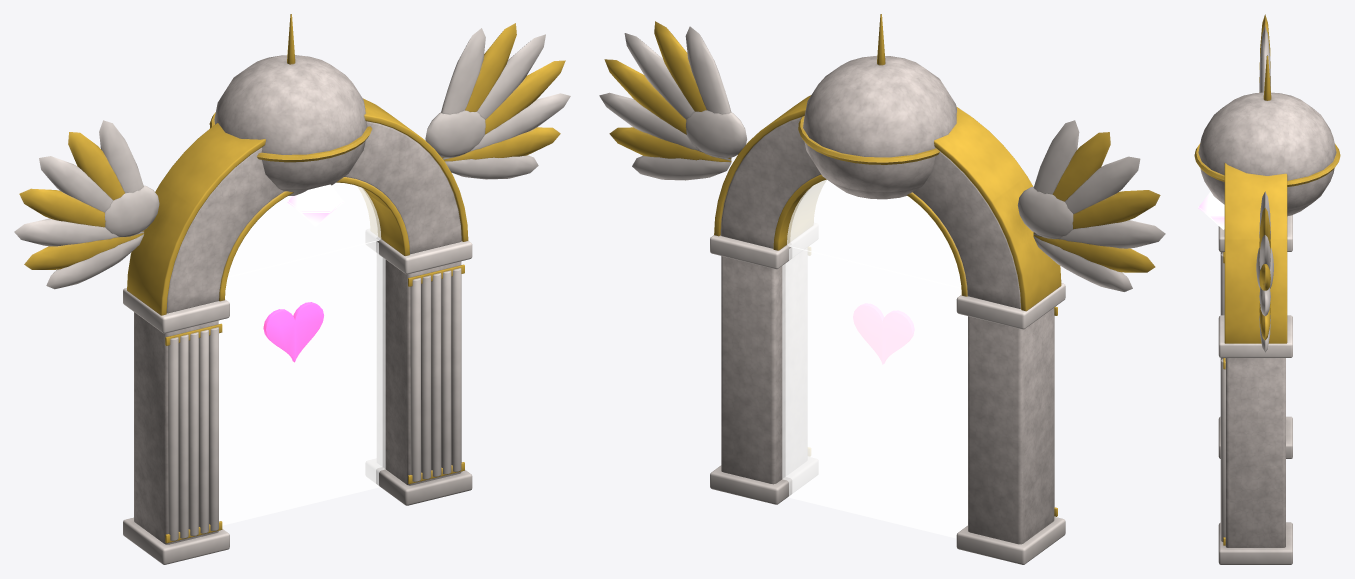
The model's file is hs_heaven_gate.glb.
3 views of the same model, side by side, from view 1: azimuth 30°, elevation 25°; view 2: azimuth 150°, elevation 25°; view 3: azimuth 270°, elevation 25° (orthographic). The views are drawn at different scales.
Parts seen in each view (by area): view 1: hs_heaven_gate; view 2: hs_heaven_gate; view 3: hs_heaven_gate.
Part boxes in pixels (x1,y1,x2,y2): hs_heaven_gate: (14,14,570,564); hs_heaven_gate: (599,14,1165,564); hs_heaven_gate: (1194,14,1340,564).
Size of the model in its own units: 24.81 by 21.05 by 6.3.
Materials: 6 (6 with a texture image).
